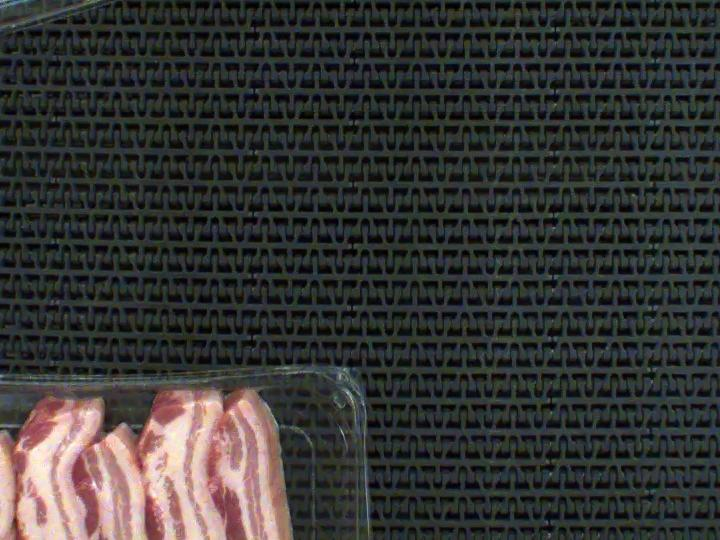packaging-error: (0, 353, 294, 415)
